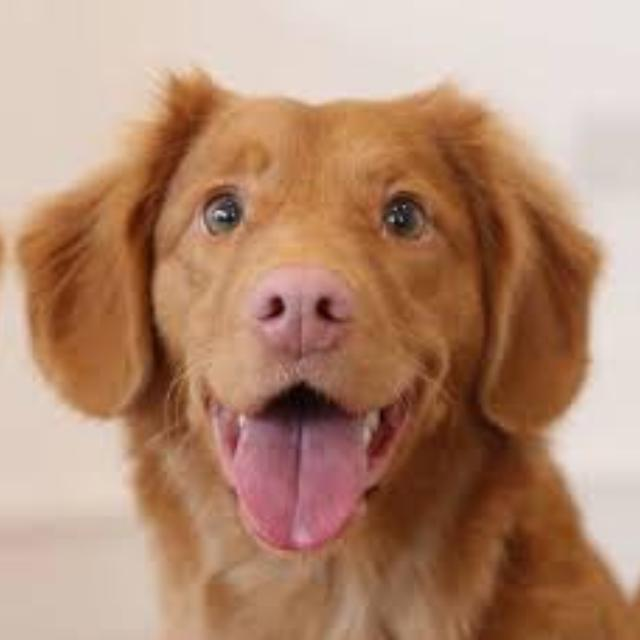dog: (26, 3, 629, 640), (629, 3, 640, 640)
